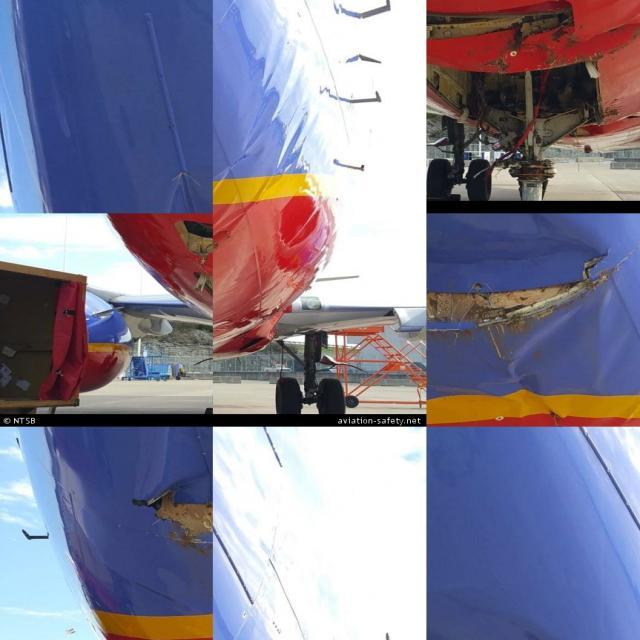crack: (577, 246, 617, 284)
